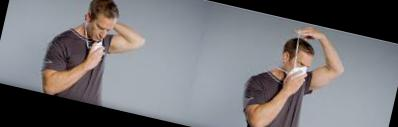mask_weared_incorrect: (89, 17, 114, 49)
with_mask: (293, 57, 312, 82)
